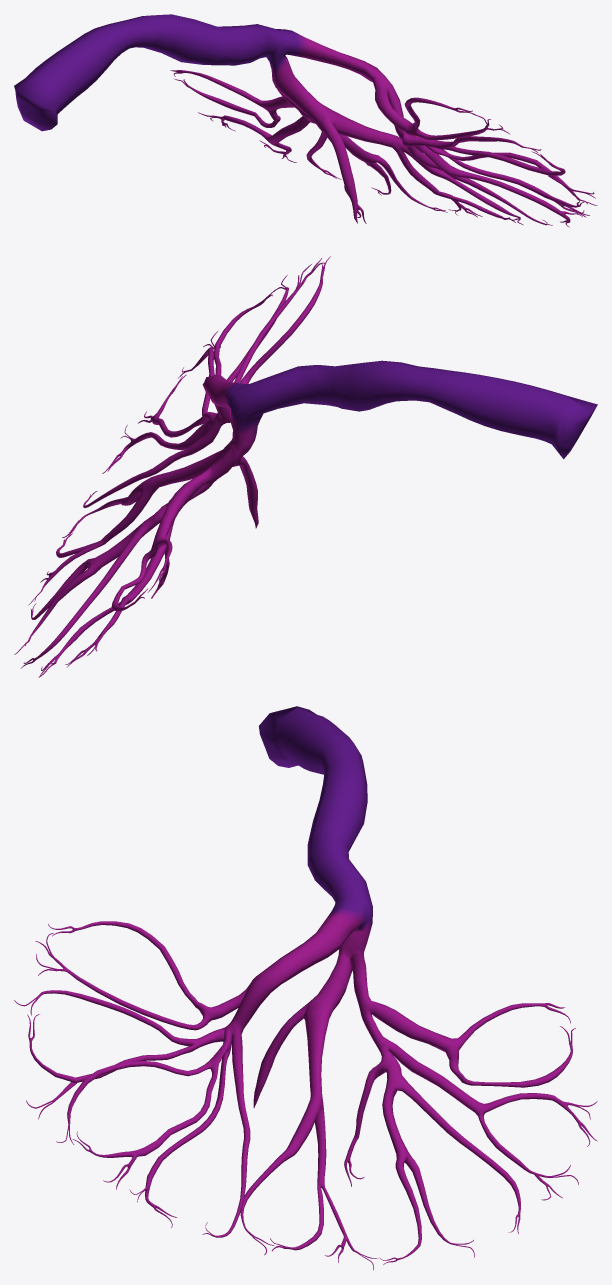
Rendered from Left_Renal_vein.fbx.
The picture shows the model from 3 angles, top to bottom: view 1: azimuth 30°, elevation 25°; view 2: azimuth 150°, elevation 25°; view 3: azimuth 270°, elevation 25°; orthographic projection. The views are drawn at different scales.
Visible parts, largest first — view 1: Left_Renal_vein; view 2: Left_Renal_vein; view 3: Left_Renal_vein.
Part boxes in pixels (x1,y1,x2,y2): Left_Renal_vein: [14, 14, 597, 227]; Left_Renal_vein: [14, 256, 597, 677]; Left_Renal_vein: [14, 706, 597, 1270].
Bounding box in the file's own units: 105 × 58.98 × 93.86.
